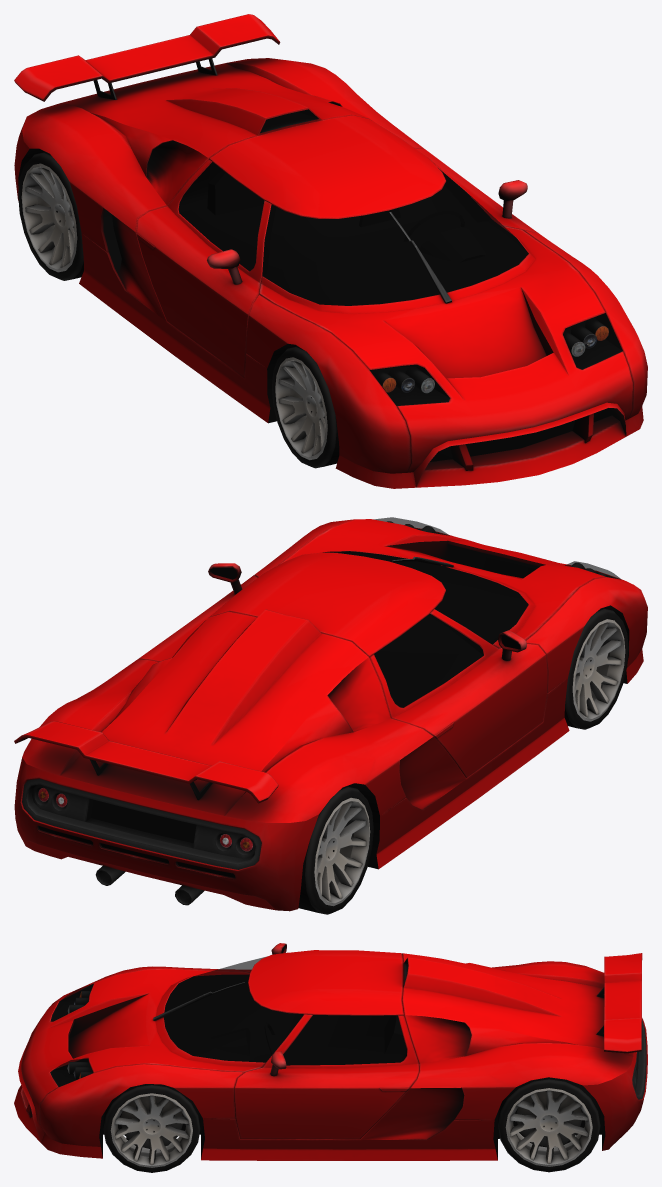
Rendered from pack_8.glb.
3 views of the same model, one above another, from view 1: azimuth 30°, elevation 25°; view 2: azimuth 150°, elevation 25°; view 3: azimuth 270°, elevation 25° (orthographic). The views are drawn at different scales.
Visible parts, largest first — view 1: pack_8; view 2: pack_8; view 3: pack_8.
Part boxes in pixels (x1,y1,x2,y2): pack_8: (14,14,647,488); pack_8: (14,517,647,914); pack_8: (14,943,647,1172).
Bounding box in the file's own units: 1.99 × 1.17 × 4.4.
4 materials, 3 textured.
